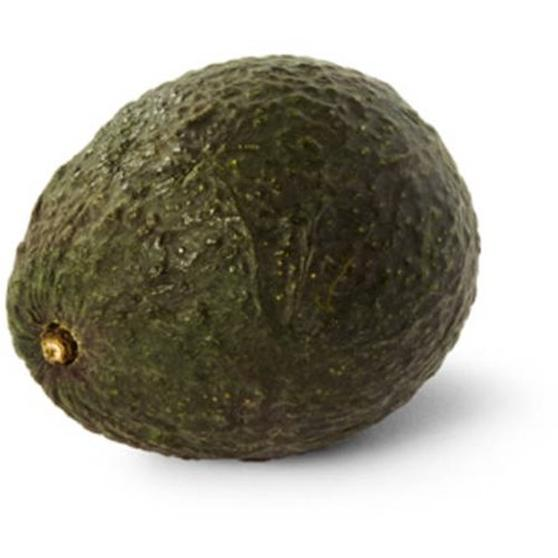avocado: (1, 54, 483, 463)
